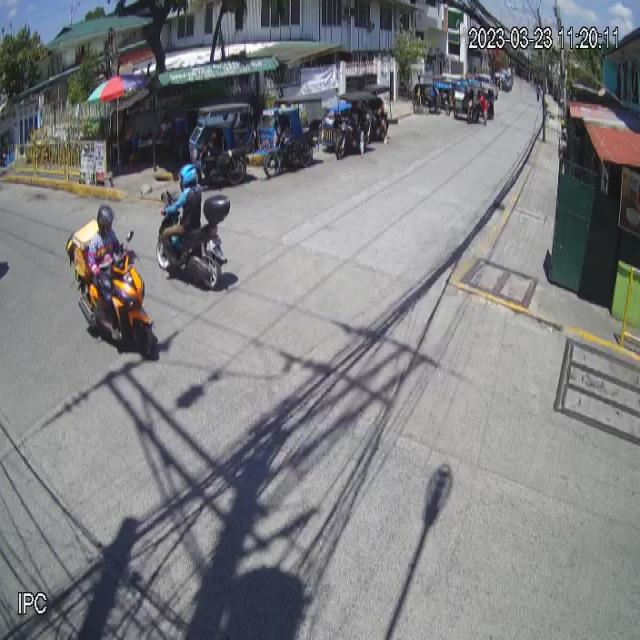Motorcycle: (77, 230, 156, 361), (157, 191, 232, 290)
